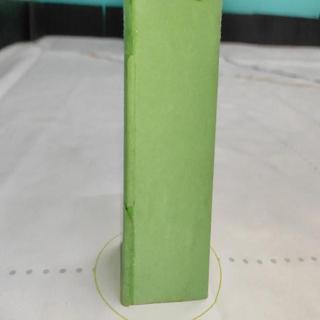greenbox: (122, 0, 215, 303)
